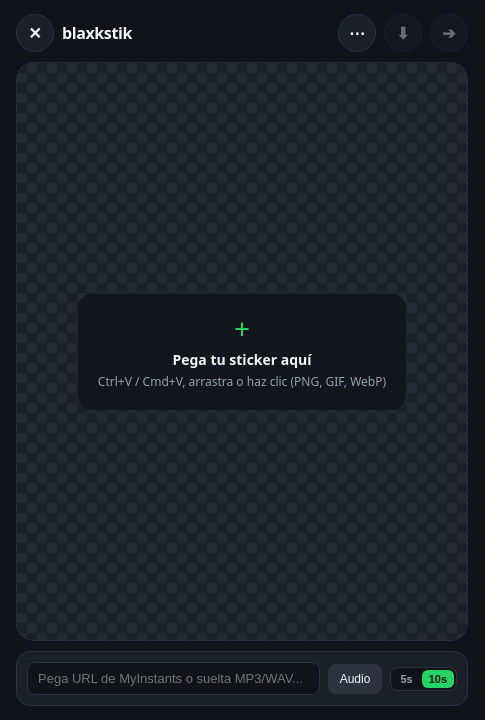
Test case: StikSoundMinimalApp UI › shows localized error banner when an invalid URL is submitted
Type "https://evil.example/sound.mp3" into the field with test id "myinstants-url-input". click: (173, 678)
box: [27,662,320,695]
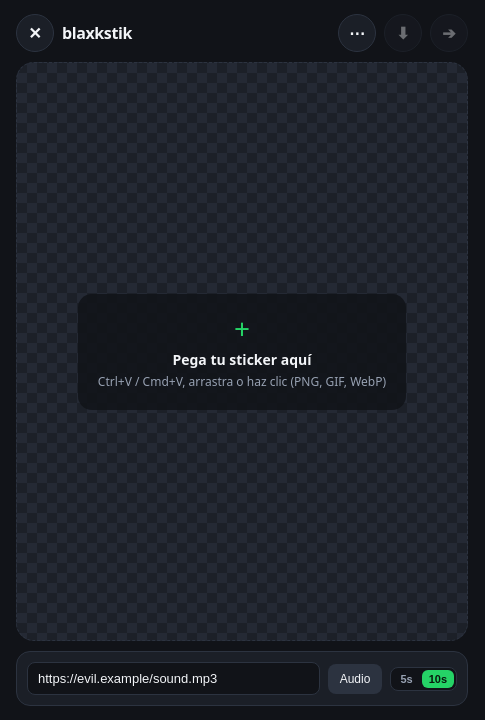
Submit the form with test id "myinstants-url-input", box [27,662,457,695]
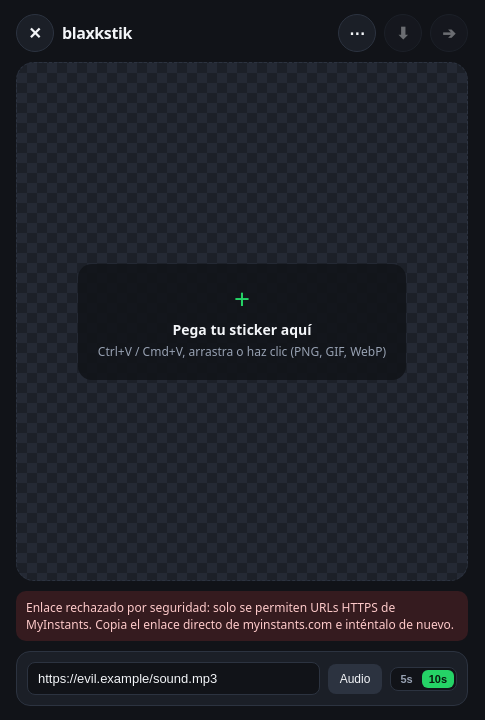
Expected: the text with test id "error-banner" shows "MyInstants", [26,599,454,633]
